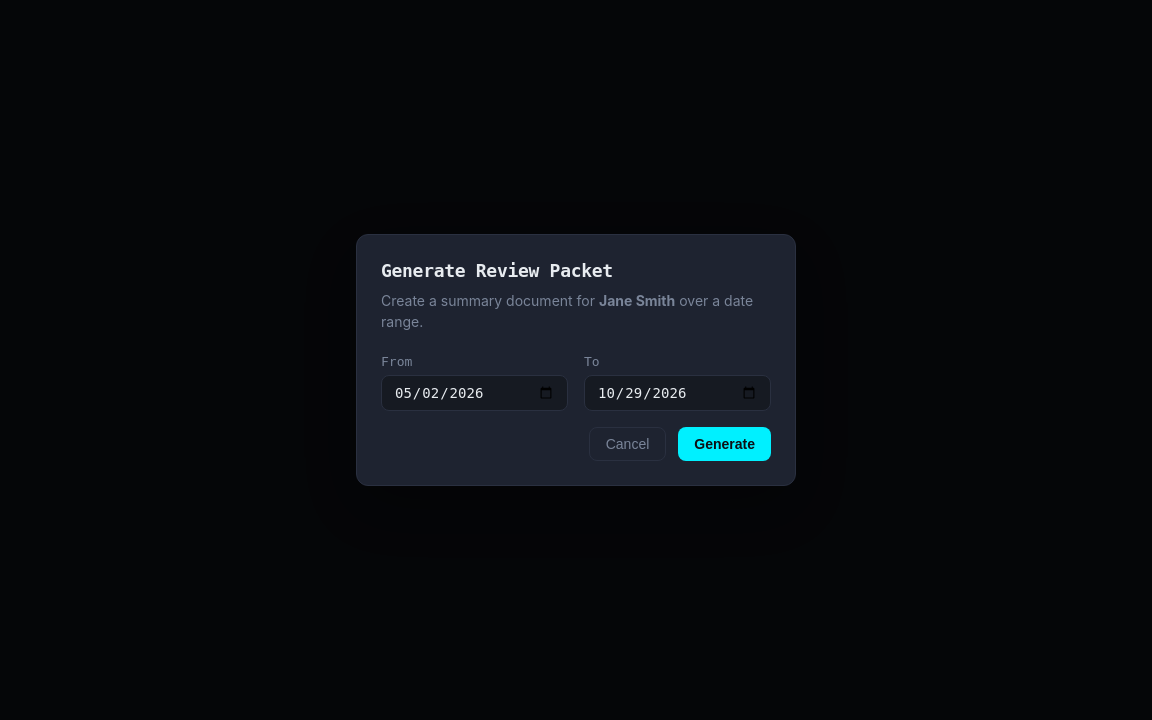
Scenario: ReviewPacketModal › should show validation error when dates are empty
Clear the date field with test id "review-date-from": (474, 393) [381,375,568,411]
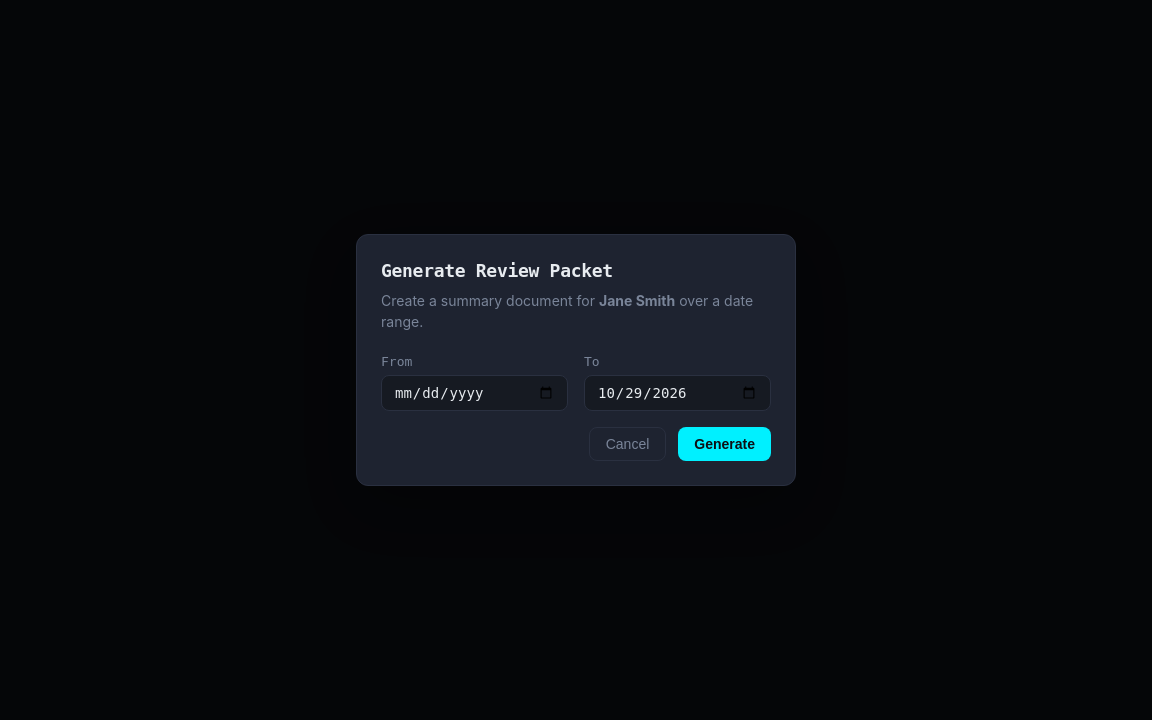
Clear the date field with test id "review-date-to": (678, 393) [584,375,771,411]
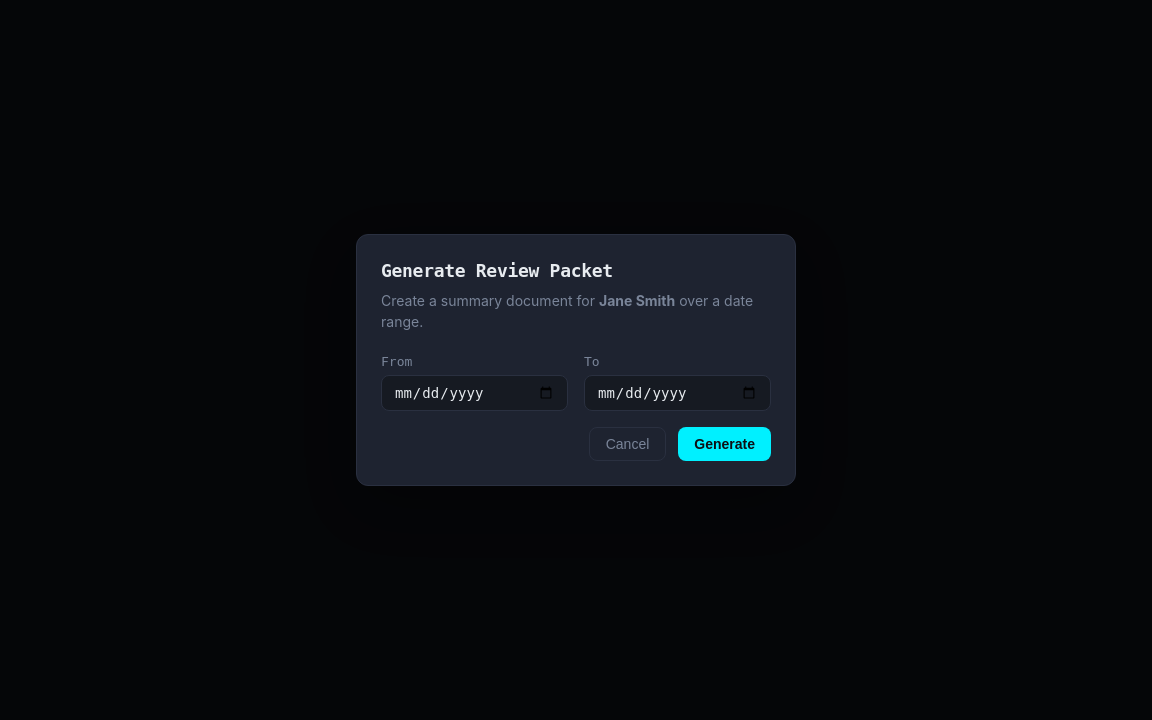
Click the button with test id "review-packet-generate": (725, 444) [678,427,771,461]
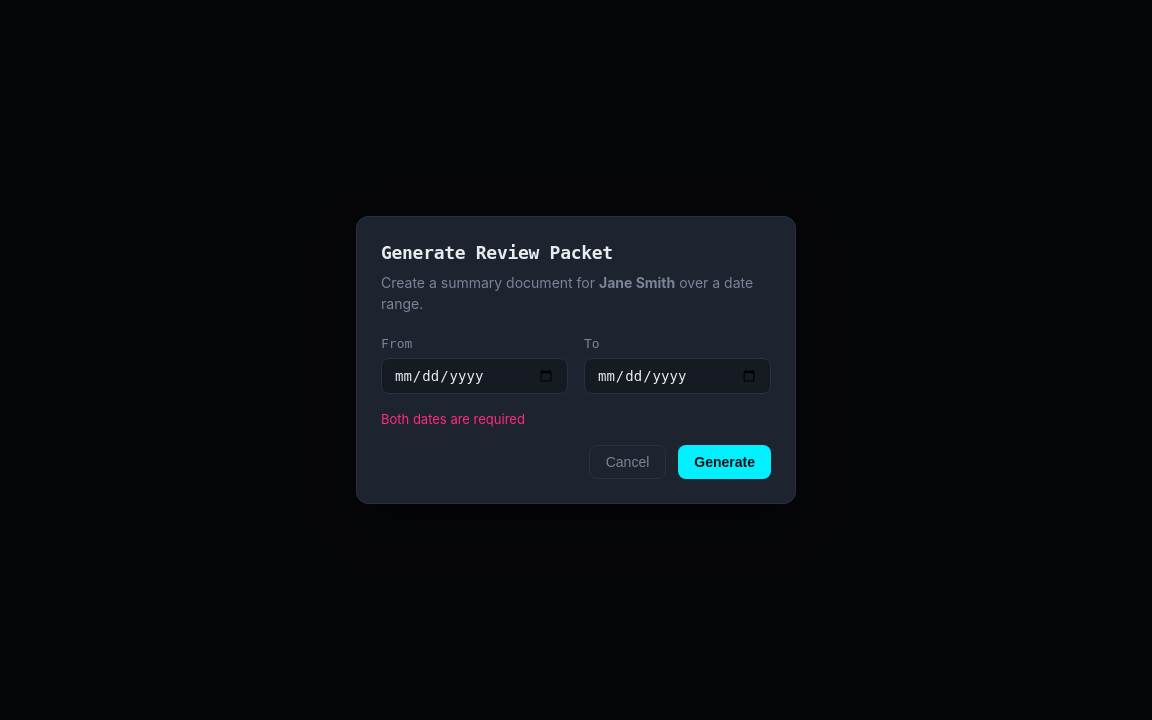
expect the text "Both dates are required" is shown: met, box [381,411,525,427]
